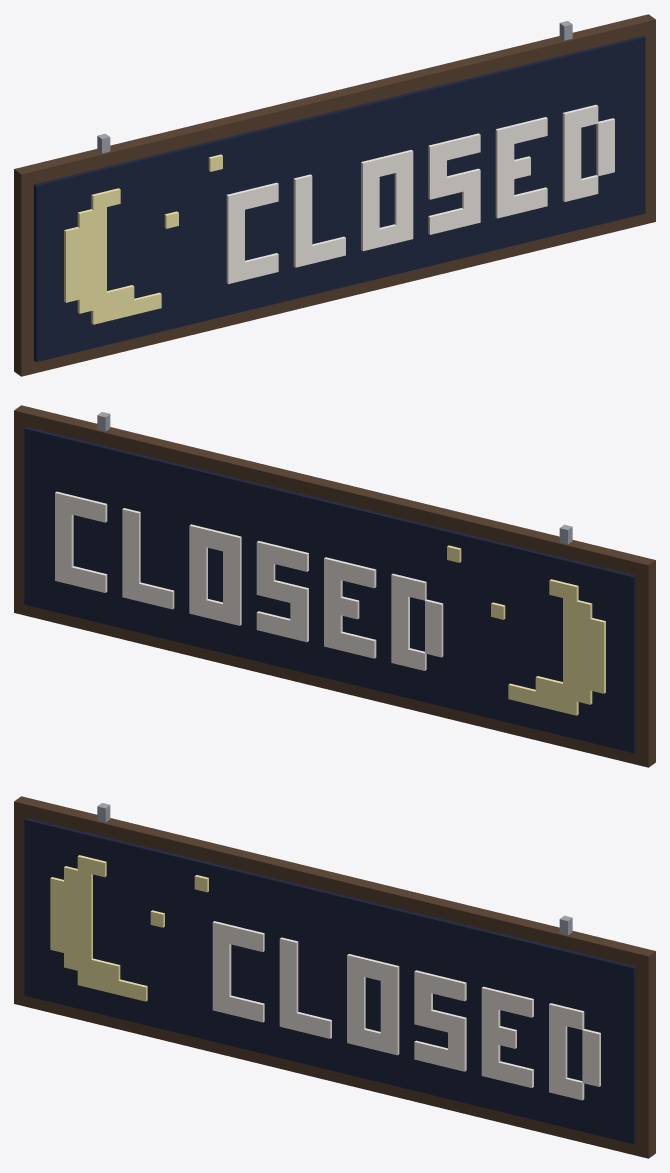
Rendered from CatCafe_Plot_ClosedSign.glb.
3 renders of one model, top to bottom at view 1: azimuth 30°, elevation 25°; view 2: azimuth 150°, elevation 25°; view 3: azimuth 330°, elevation 25°, orthographic.
Parts seen in each view (by area): view 1: CatCafe_Plot_ClosedSign, CatCafe_Plot_ClosedSign_Moon_Bulb; view 2: CatCafe_Plot_ClosedSign, CatCafe_Plot_ClosedSign_Moon_Bulb; view 3: CatCafe_Plot_ClosedSign, CatCafe_Plot_ClosedSign_Moon_Bulb.
Boxes of the visible parts, x1,y1,x2,y2 form: CatCafe_Plot_ClosedSign: [14, 14, 655, 376]; CatCafe_Plot_ClosedSign_Moon_Bulb: [64, 188, 161, 324]; CatCafe_Plot_ClosedSign: [14, 405, 655, 767]; CatCafe_Plot_ClosedSign_Moon_Bulb: [508, 579, 605, 715]; CatCafe_Plot_ClosedSign: [14, 796, 655, 1158]; CatCafe_Plot_ClosedSign_Moon_Bulb: [50, 855, 147, 1001].
Size of the model in its own units: 6.04 by 1.97 by 0.26.
1 material, 1 textured.
